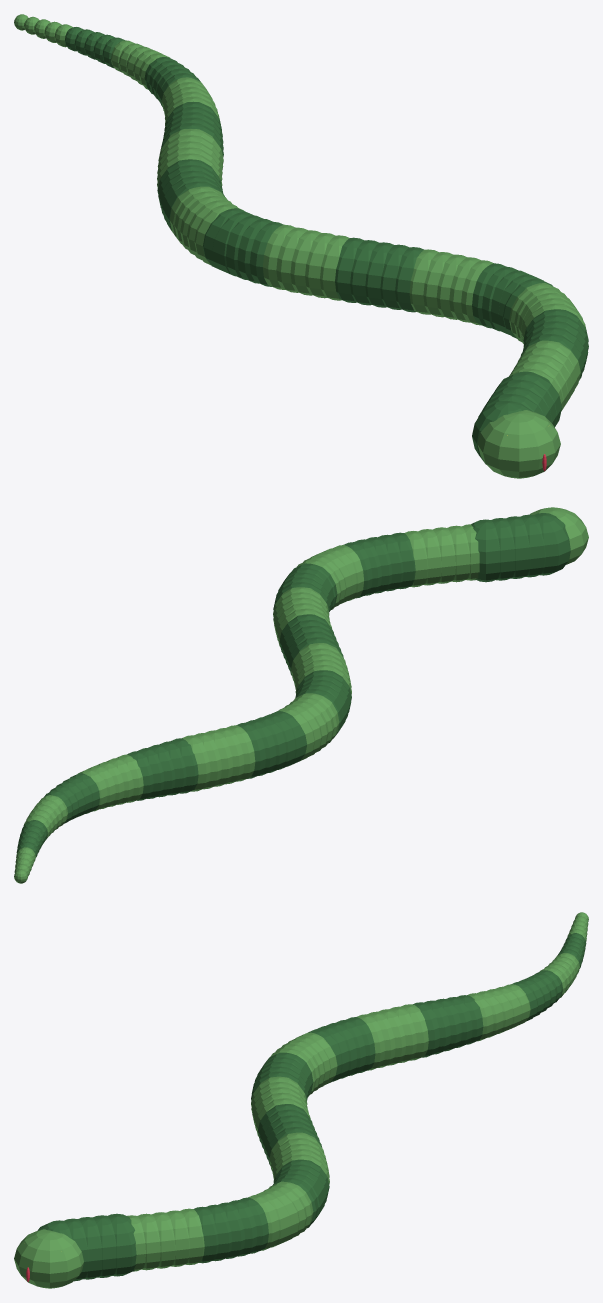
File: Snake_Slither_Green.glb
3 renders of one model, top to bottom at view 1: azimuth 30°, elevation 25°; view 2: azimuth 150°, elevation 25°; view 3: azimuth 330°, elevation 25°, orthographic. The views are drawn at different scales.
Visible parts, largest first — view 1: Snake_Slither_Green; view 2: Snake_Slither_Green; view 3: Snake_Slither_Green.
Part boxes in pixels (left/top/right/bottom): Snake_Slither_Green: left=14, top=14, right=588, bottom=478; Snake_Slither_Green: left=14, top=507, right=588, bottom=883; Snake_Slither_Green: left=14, top=912, right=588, bottom=1288.
Bounding box in the file's own units: 0.3386 × 0.1 × 1.61.
